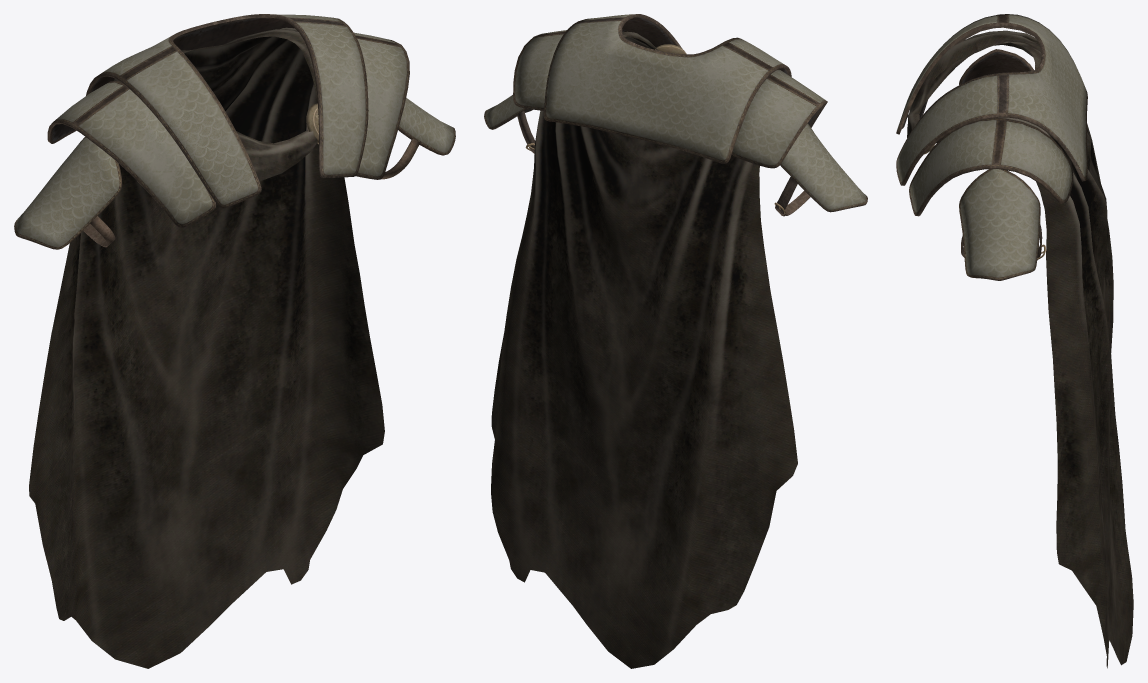
Rendered from dunland_wulf_pauldron_cape_d.fbx.
3 renders of one model, left to right at view 1: azimuth 30°, elevation 25°; view 2: azimuth 150°, elevation 25°; view 3: azimuth 270°, elevation 25°, orthographic. The views are drawn at different scales.
Parts seen in each view (by area): view 1: dunland_wulf_pauldron_cape_d.cloth, dunland_wulf_pauldron_cape_d.pauldron; view 2: dunland_wulf_pauldron_cape_d.cloth, dunland_wulf_pauldron_cape_d.pauldron; view 3: dunland_wulf_pauldron_cape_d.cloth, dunland_wulf_pauldron_cape_d.pauldron.
Part boxes in pixels (x1,y1,x2,y2): dunland_wulf_pauldron_cape_d.cloth: [29, 27, 384, 668]; dunland_wulf_pauldron_cape_d.pauldron: [14, 14, 455, 249]; dunland_wulf_pauldron_cape_d.cloth: [491, 31, 797, 668]; dunland_wulf_pauldron_cape_d.pauldron: [484, 14, 867, 216]; dunland_wulf_pauldron_cape_d.cloth: [907, 30, 1133, 668]; dunland_wulf_pauldron_cape_d.pauldron: [896, 14, 1087, 280].
Bounding box in the file's own units: 0.8712 × 0.4475 × 1.29.
Materials: 2 (2 with a texture image).
